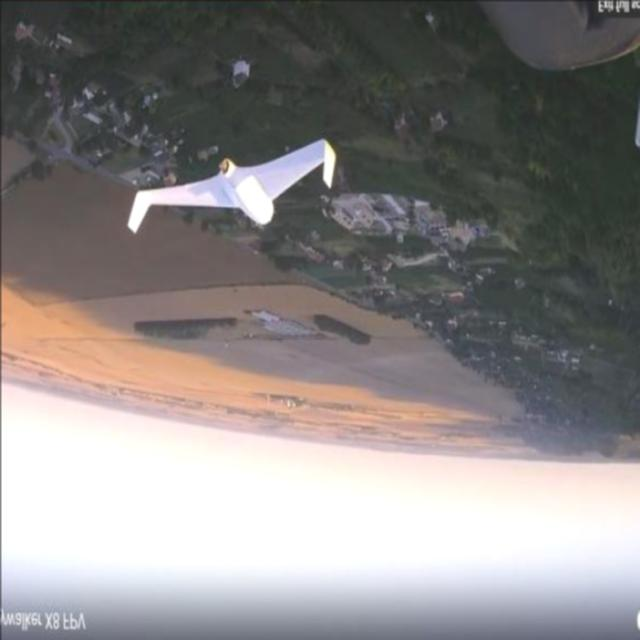plane: (124, 135, 337, 235)
